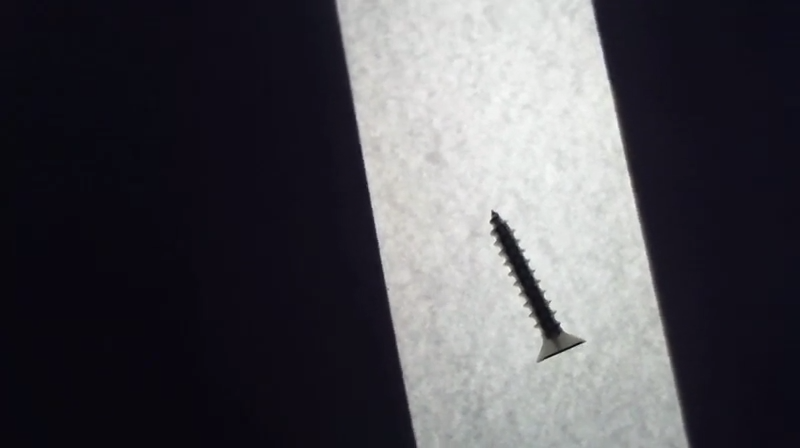S001: (485, 205, 590, 369)
